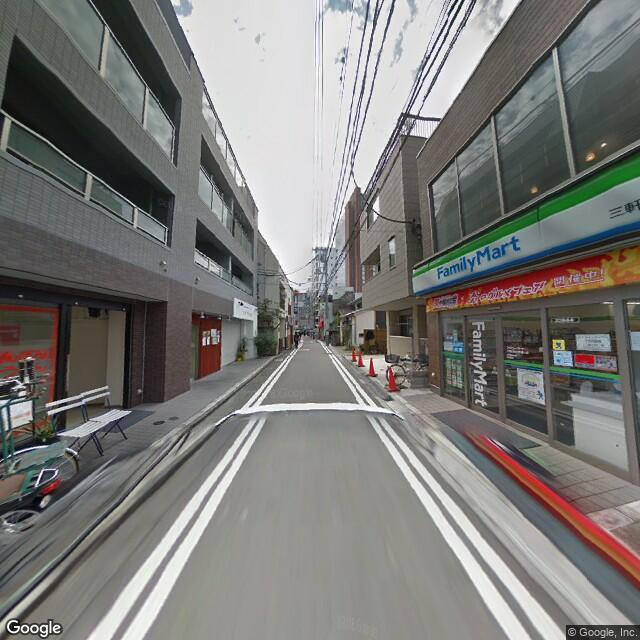family_mart: (411, 152, 639, 298), (432, 229, 526, 288), (463, 318, 489, 410)
